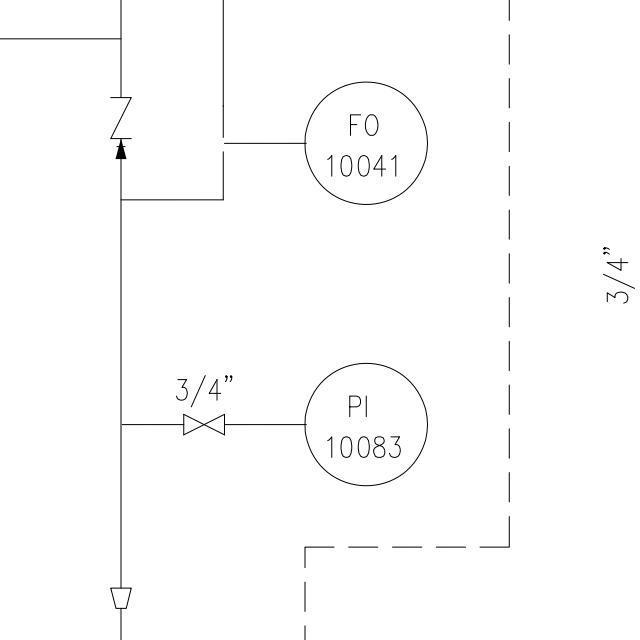GV: (180, 409, 229, 438)
SP: (108, 583, 135, 613)
